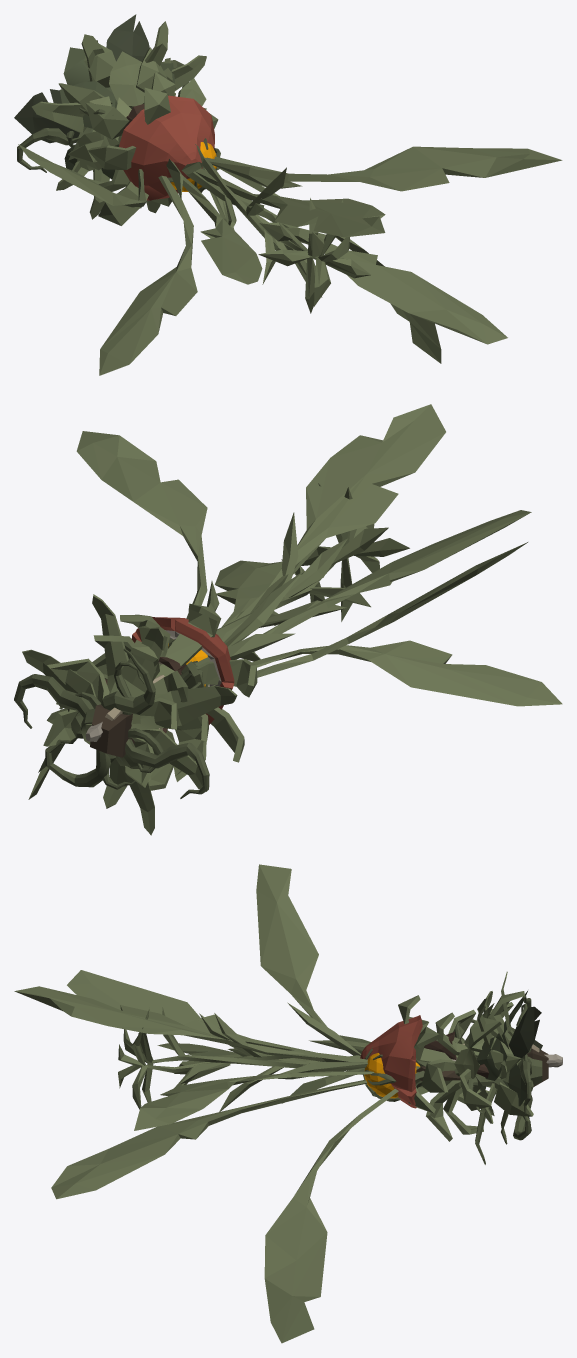
File: plants.glb
3 views of the same model, one above another, from view 1: azimuth 30°, elevation 25°; view 2: azimuth 150°, elevation 25°; view 3: azimuth 270°, elevation 25° (orthographic). The views are drawn at different scales.
Visible parts, largest first — view 1: SM_Plant_PalmBush_01, SM_Plant_05, SM_Plant_06, SM_Plant_Fern_02, SM_Env_Mushroom_Giant_02, SM_Plant_01, SM_Env_GlowingOrb_01; view 2: SM_Plant_PalmBush_01, SM_Plant_06, SM_Plant_05, SM_Plant_01, SM_Env_GlowingOrb_01, SM_Env_Mushroom_Giant_02, SM_Env_GlowingOrb_02; view 3: SM_Plant_PalmBush_01, SM_Plant_05, SM_Plant_06, SM_Plant_Fern_02, SM_Env_Mushroom_Giant_02, SM_Env_GlowingOrb_01, SM_Plant_01.
Boxes of the visible parts, <box> form: SM_Plant_PalmBush_01: <box>18,144,562,375</box>; SM_Plant_05: <box>166,157,370,313</box>; SM_Plant_06: <box>58,44,218,225</box>; SM_Plant_Fern_02: <box>14,14,175,179</box>; SM_Env_Mushroom_Giant_02: <box>119,95,214,200</box>; SM_Plant_01: <box>31,21,206,219</box>; SM_Env_GlowingOrb_01: <box>17,40,220,192</box>; SM_Plant_PalmBush_01: <box>28,404,562,799</box>; SM_Plant_06: <box>43,603,257,790</box>; SM_Plant_05: <box>85,483,409,731</box>; SM_Plant_01: <box>22,594,237,835</box>; SM_Env_GlowingOrb_01: <box>14,638,209,798</box>; SM_Env_Mushroom_Giant_02: <box>85,617,234,741</box>; SM_Env_GlowingOrb_02: <box>67,661,208,789</box>; SM_Plant_PalmBush_01: <box>14,864,548,1343</box>; SM_Plant_05: <box>118,1002,477,1111</box>; SM_Plant_06: <box>398,991,533,1141</box>; SM_Plant_Fern_02: <box>454,991,542,1130</box>; SM_Env_Mushroom_Giant_02: <box>360,1015,562,1108</box>; SM_Env_GlowingOrb_01: <box>363,995,542,1140</box>; SM_Plant_01: <box>475,971,521,1164</box>.
Bounding box in the file's own units: 3.48 × 2.28 × 3.91.
Materials: 2 (2 with a texture image).
